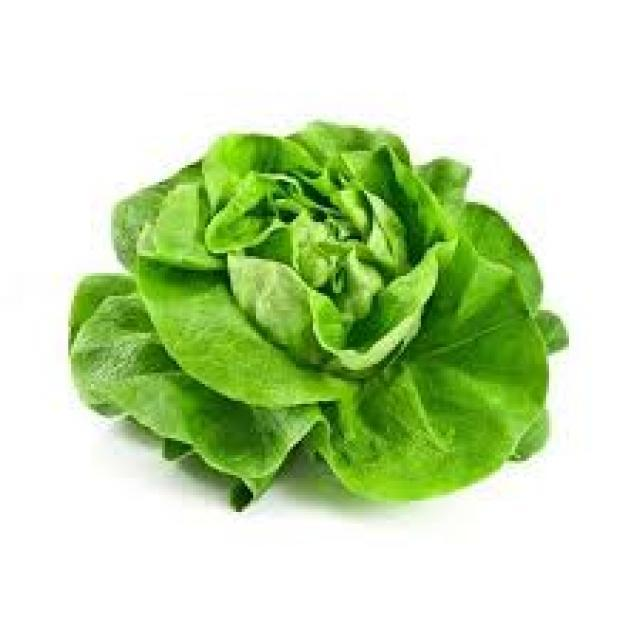Lettuce: (62, 115, 568, 507)
